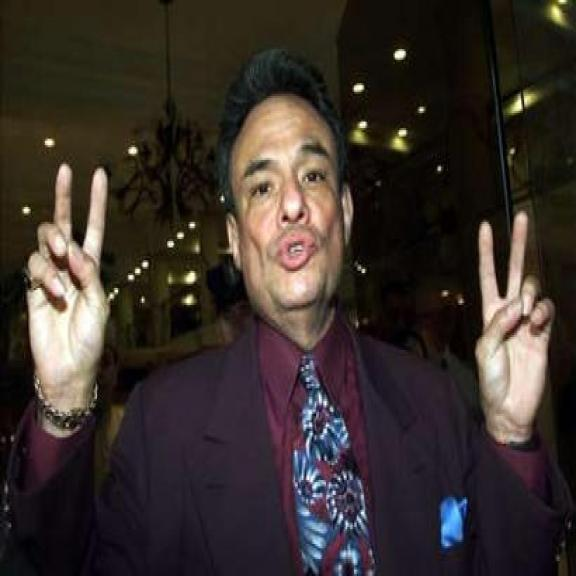face: (223, 96, 358, 326)
